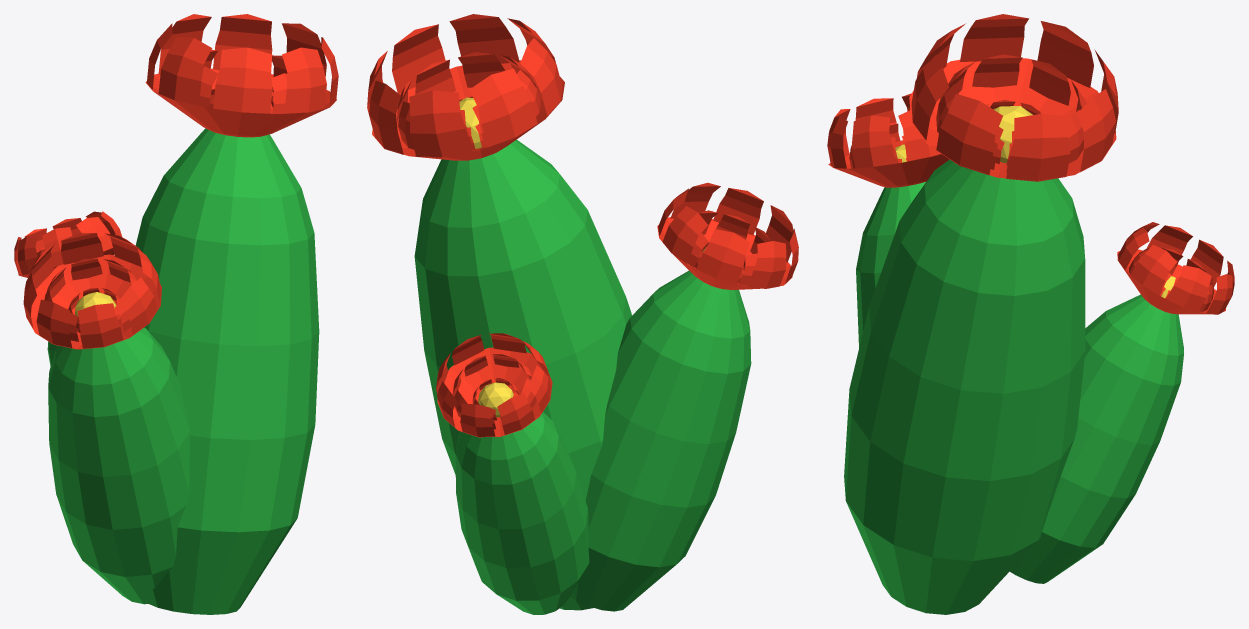
Rendered from fleur désert.fbx.
The picture shows the model from 3 angles, left to right: view 1: azimuth 30°, elevation 25°; view 2: azimuth 150°, elevation 25°; view 3: azimuth 270°, elevation 25°; orthographic projection. The views are drawn at different scales.
Parts seen in each view (by area): view 1: Cylinder; view 2: Cylinder; view 3: Cylinder.
Boxes of the visible parts, x1,y1,x2,y2 form: Cylinder: (14,14,338,614); Cylinder: (367,14,798,614); Cylinder: (827,14,1234,614).
Bounding box in the file's own units: 158 × 240 × 148.
